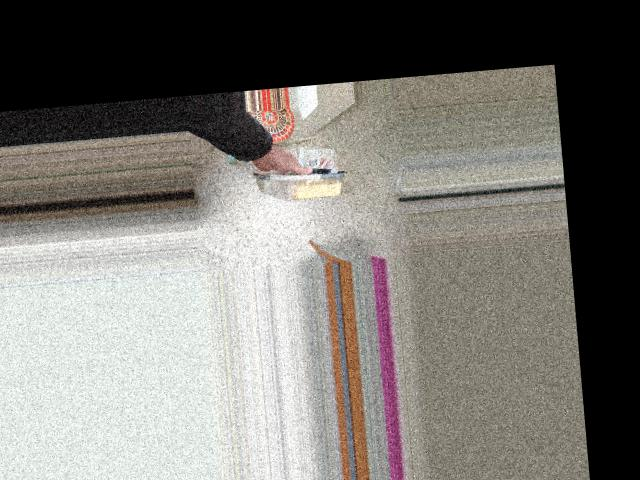cheese: (234, 124, 341, 228)
